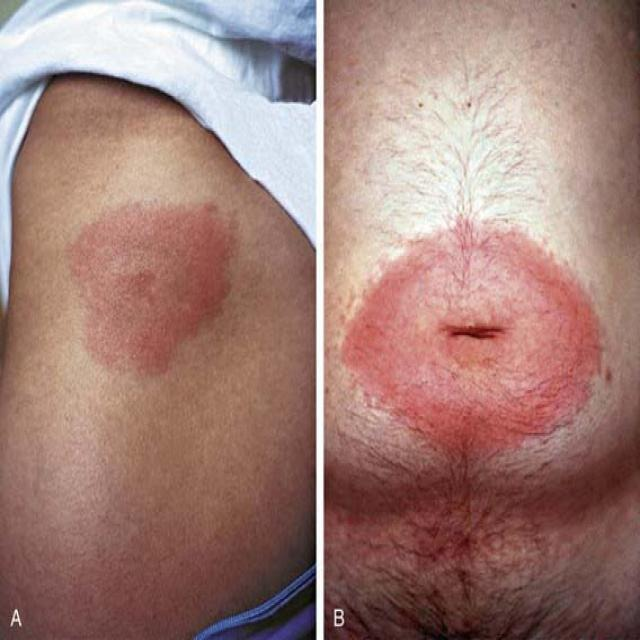Ringworm: (335, 200, 623, 465), (38, 178, 252, 390)
